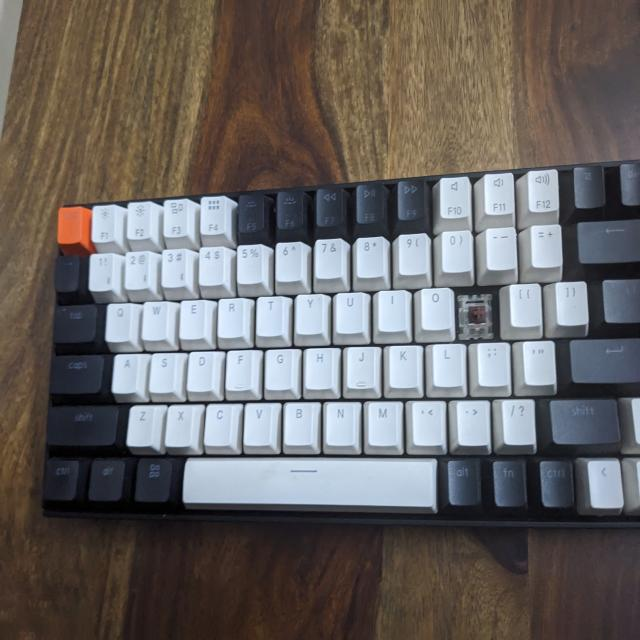C: (456, 292, 498, 339), (454, 289, 493, 338)
